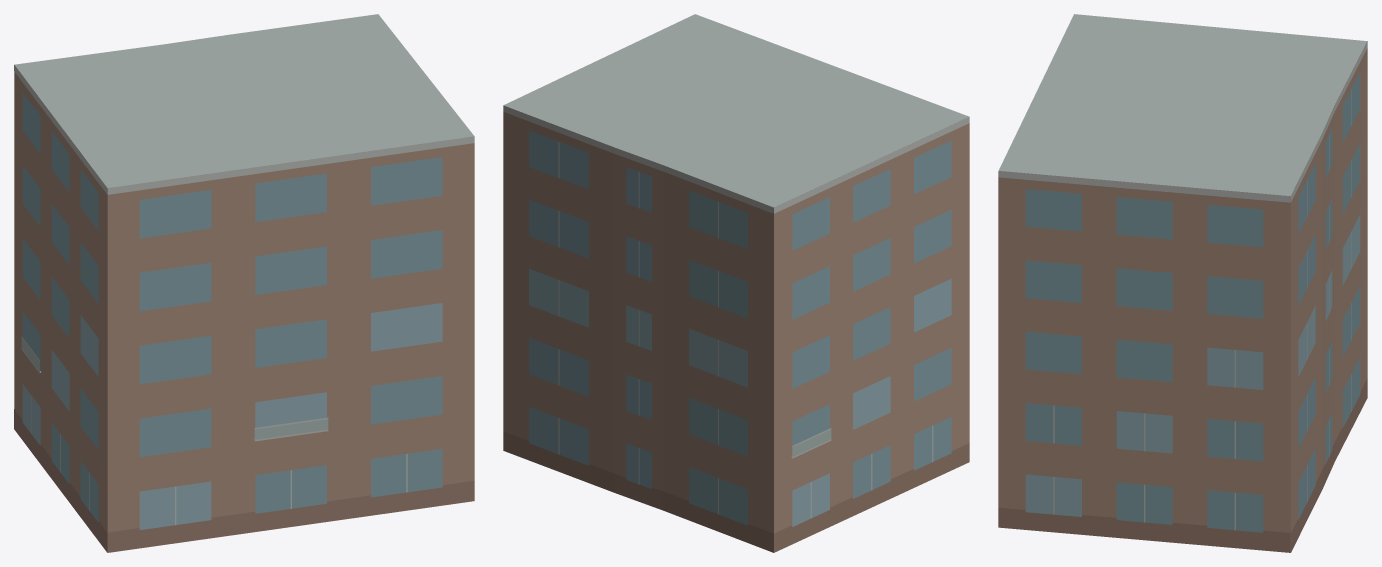
The model's file is survey-upis-32744318.glb.
3 views of the same model, side by side, from view 1: azimuth 30°, elevation 25°; view 2: azimuth 150°, elevation 25°; view 3: azimuth 270°, elevation 25° (orthographic). The views are drawn at different scales.
Visible parts, largest first — view 1: survey-upis-32744318.tmp; view 2: survey-upis-32744318.tmp; view 3: survey-upis-32744318.tmp.
Boxes of the visible parts, x1,y1,x2,y2 form: survey-upis-32744318.tmp: (14,14,474,552); survey-upis-32744318.tmp: (503,14,969,552); survey-upis-32744318.tmp: (998,14,1367,552).
Bounding box in the file's own units: 14.58 × 13.3 × 12.48.
